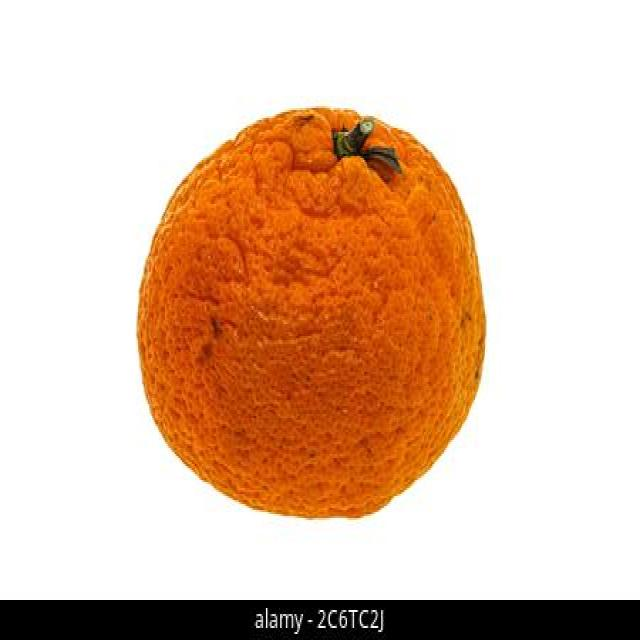overripe: (131, 98, 491, 527)
